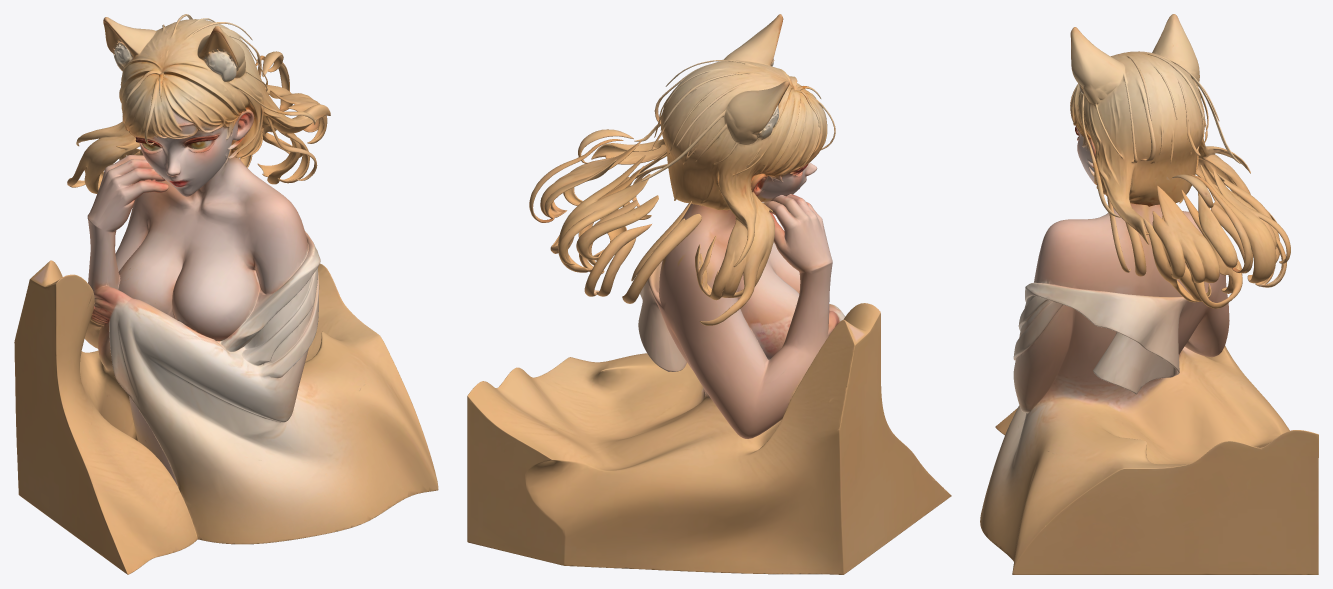
The model's file is girl-28.glb.
3 renders of one model, left to right at view 1: azimuth 30°, elevation 25°; view 2: azimuth 150°, elevation 25°; view 3: azimuth 270°, elevation 25°, orthographic. The views are drawn at different scales.
Visible parts, largest first — view 1: node_0; view 2: node_0; view 3: node_0.
Boxes of the visible parts, box(x1,y1,x2,y2) form: node_0: box(14, 14, 438, 574); node_0: box(467, 14, 951, 574); node_0: box(980, 14, 1318, 574).
Bounding box in the file's own units: 0.5979 × 0.8681 × 0.5781.
Materials: 1 (1 with a texture image).
